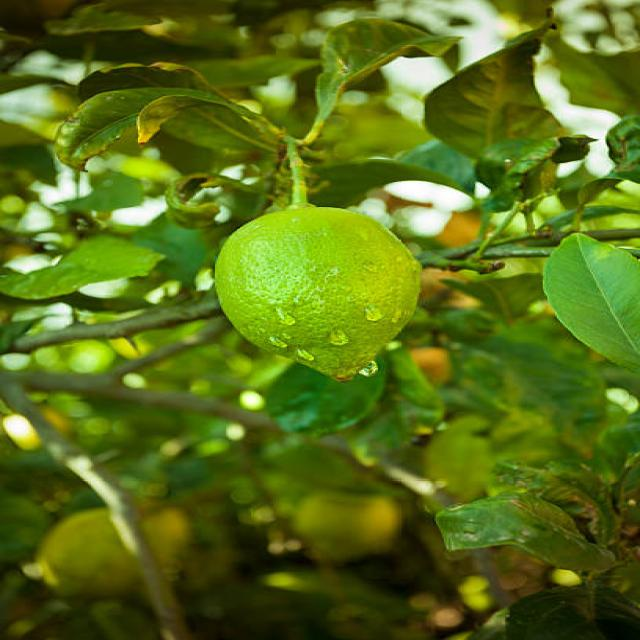Unripe: (216, 204, 421, 384)
